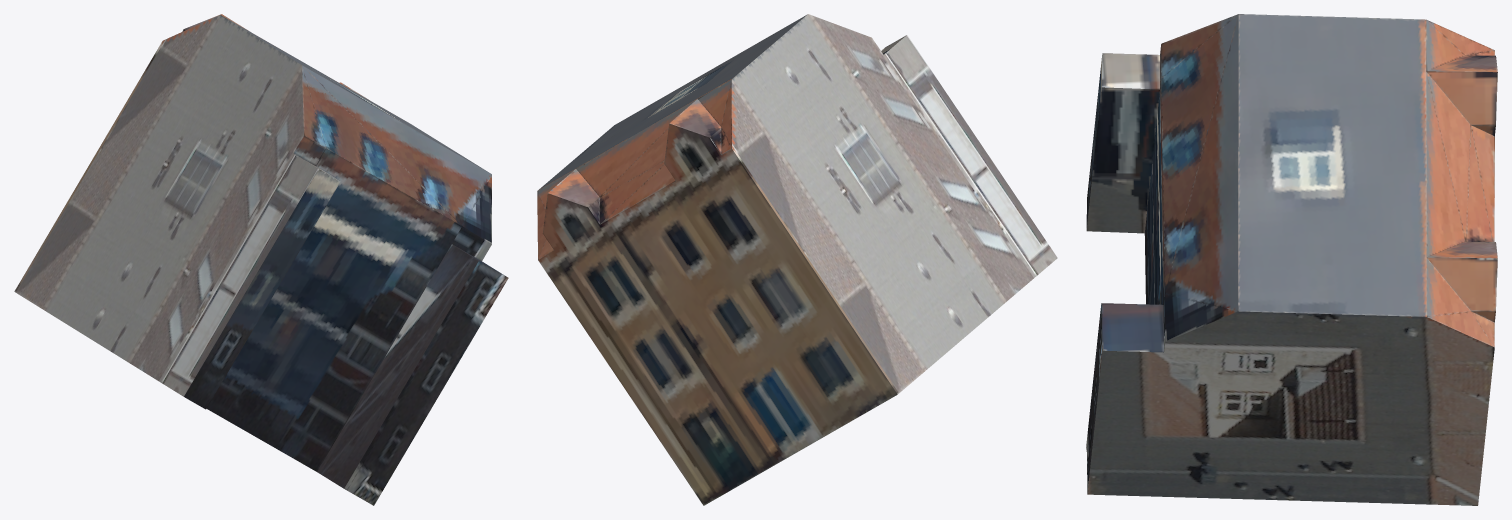
3 views of the same model, side by side, from view 1: azimuth 30°, elevation 25°; view 2: azimuth 150°, elevation 25°; view 3: azimuth 270°, elevation 25° (orthographic). The views are drawn at different scales.
Visible parts, largest first — view 1: BAG_0599100000670815 (×4); view 2: BAG_0599100000670815 (×4); view 3: BAG_0599100000670815 (×4).
Boxes of the visible parts, x1,y1,x2,y2 form: BAG_0599100000670815 (×4): (14, 14, 508, 505); BAG_0599100000670815 (×4): (537, 14, 1057, 505); BAG_0599100000670815 (×4): (1086, 14, 1497, 505).
Bounding box in the file's own units: 16.55 × 17.15 × 13.04.
Materials: 1 (1 with a texture image).
